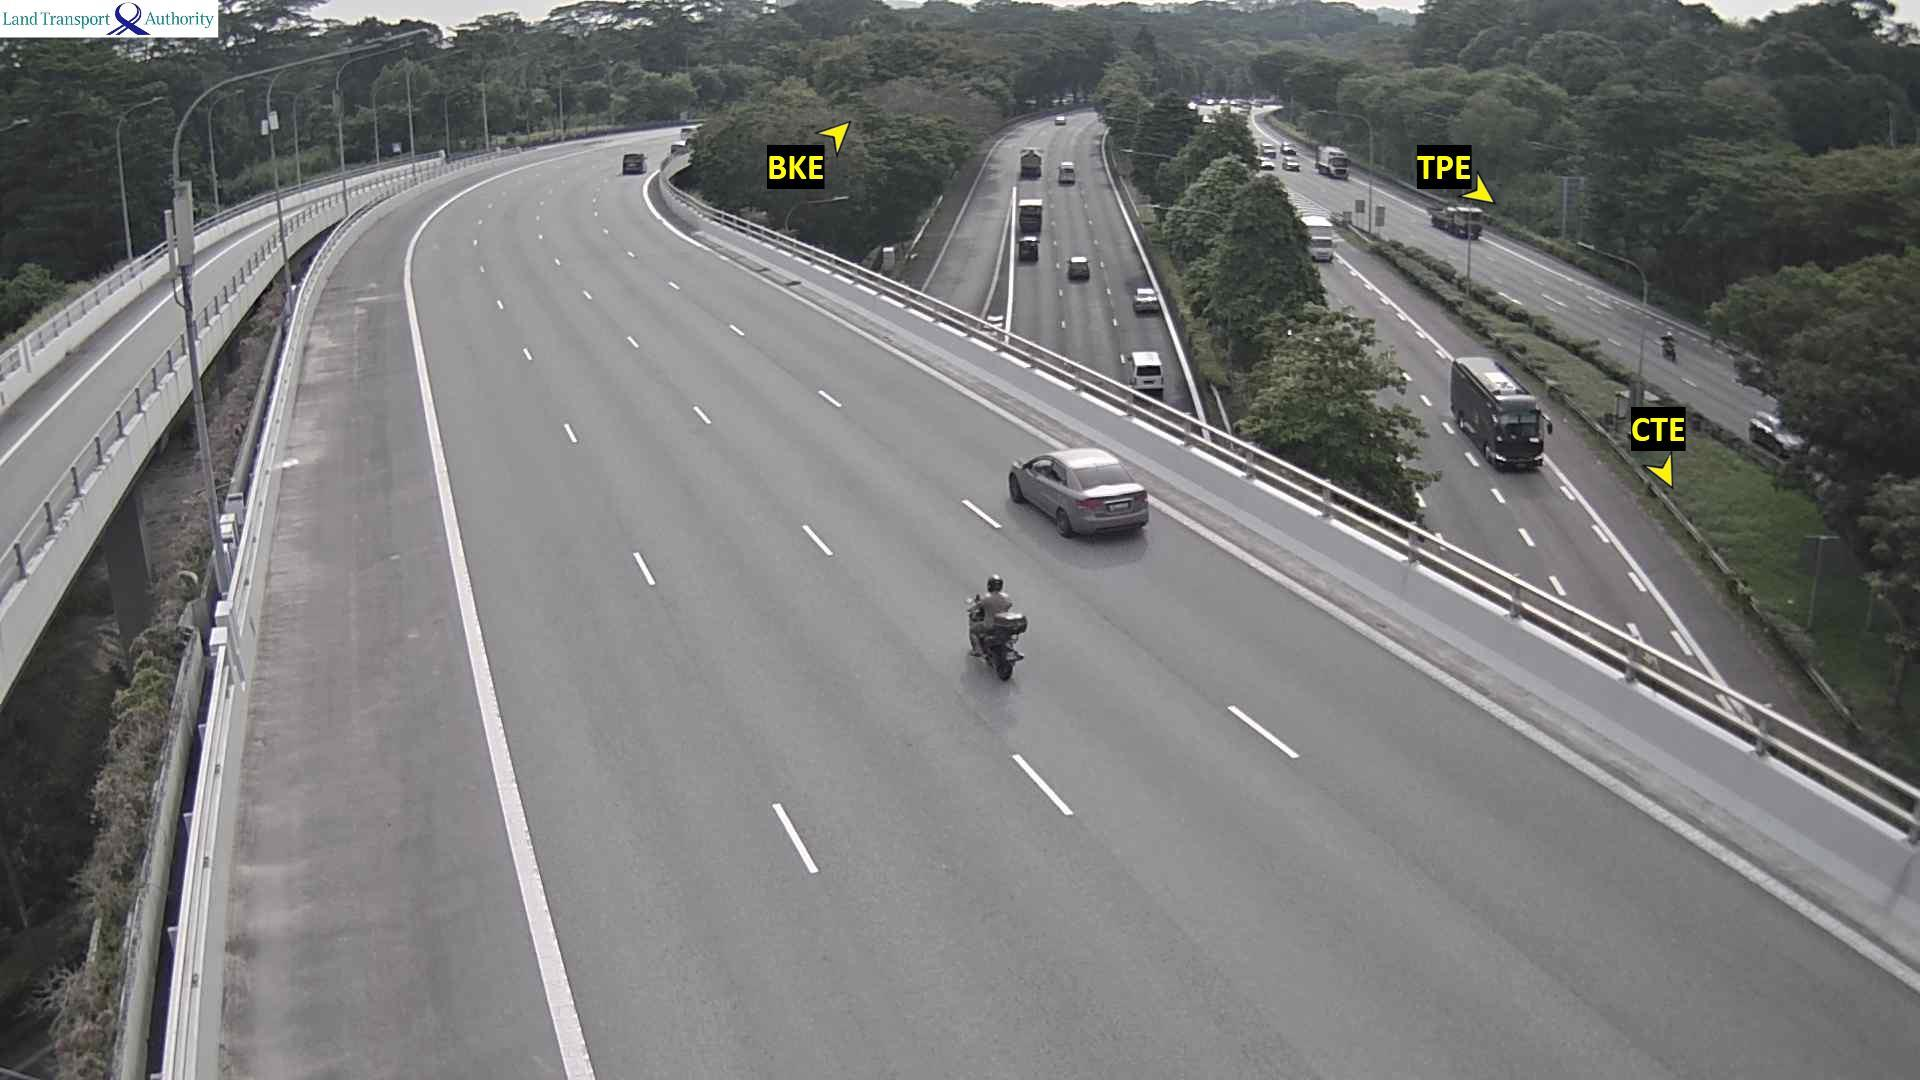cars: (1007, 444, 1149, 538), (1747, 409, 1808, 459), (1120, 349, 1163, 396), (1298, 214, 1335, 262), (1017, 195, 1042, 225), (1131, 285, 1156, 313), (1019, 146, 1042, 177), (1065, 255, 1089, 280), (1017, 233, 1038, 260), (621, 152, 645, 173), (1058, 161, 1075, 183), (1280, 156, 1299, 171), (1255, 156, 1275, 170), (1201, 109, 1216, 124), (1280, 140, 1295, 154), (1054, 112, 1065, 125), (1261, 142, 1276, 152)
motorcycle: (963, 595, 1027, 680), (1658, 330, 1676, 360)
trucks: (1448, 353, 1551, 469), (1429, 202, 1484, 239), (1315, 144, 1348, 178)
